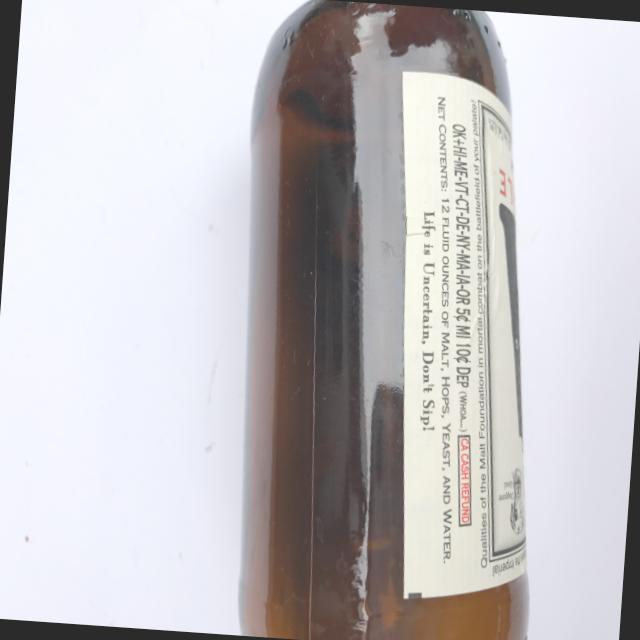Glass: (187, 0, 611, 640)
